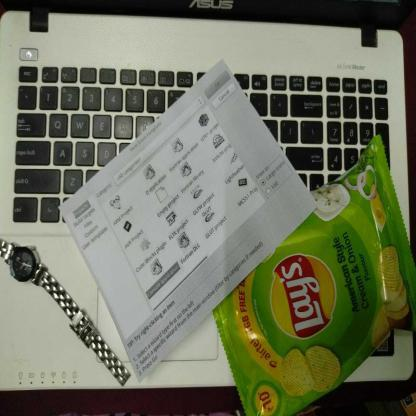cream_and_onion: (200, 132, 416, 415)
